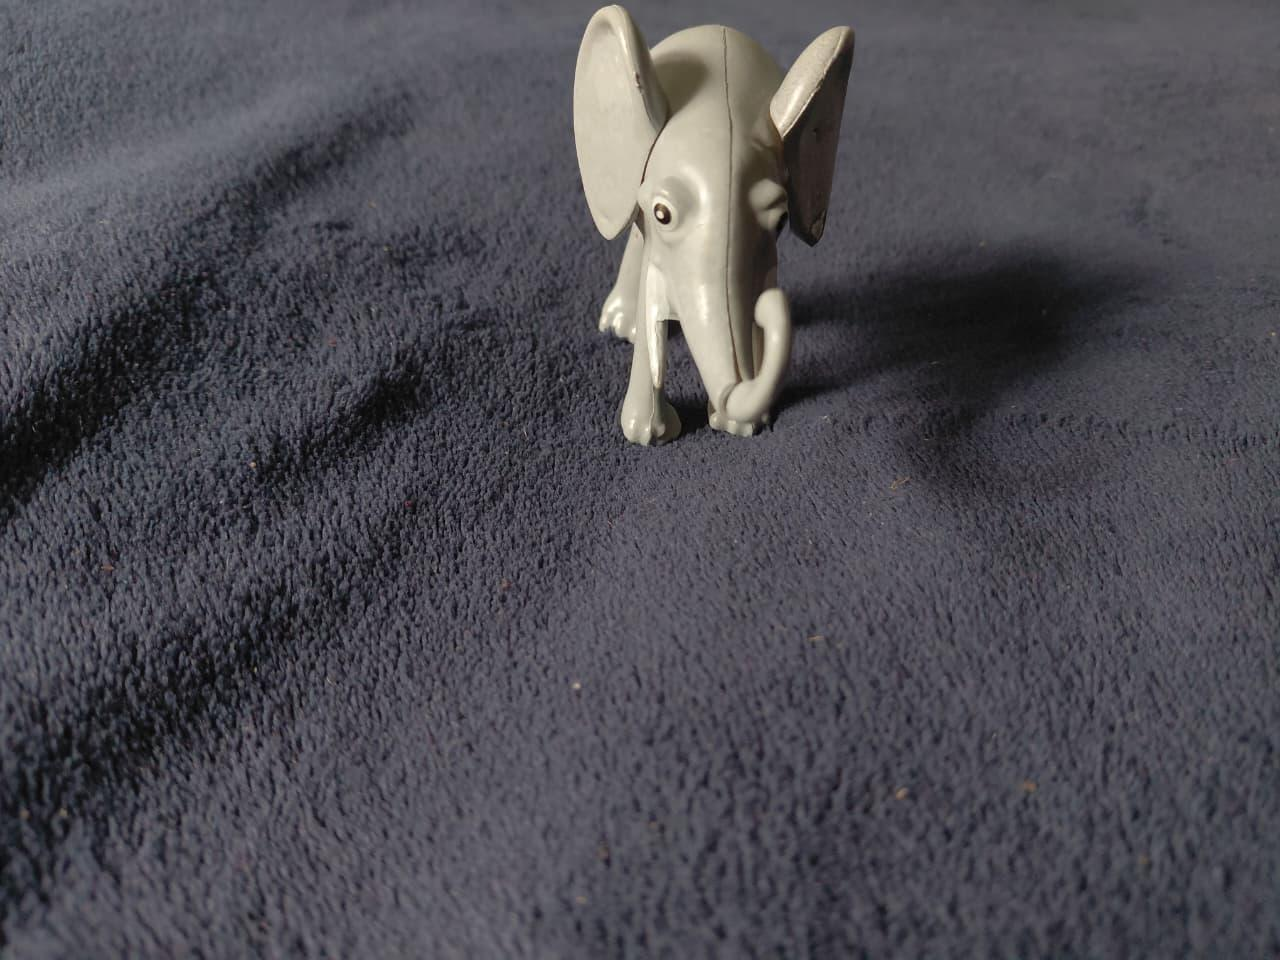elephant: (562, 4, 867, 462)
